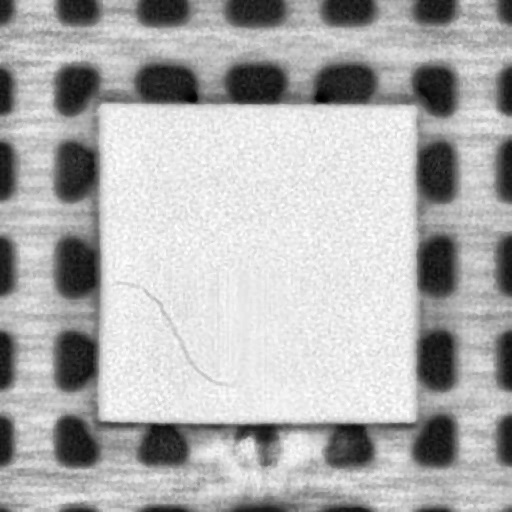DIE_CRACK: (115, 278, 233, 389)
